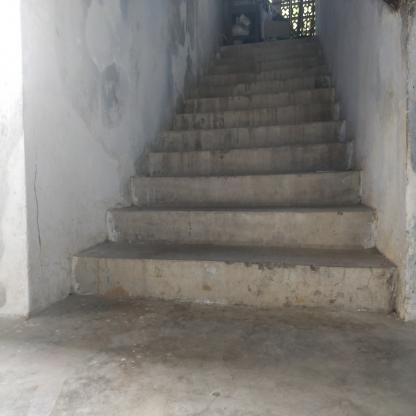stairs: (144, 150, 378, 318)
